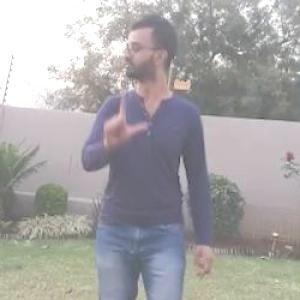land_hand: (100, 79, 150, 151)
